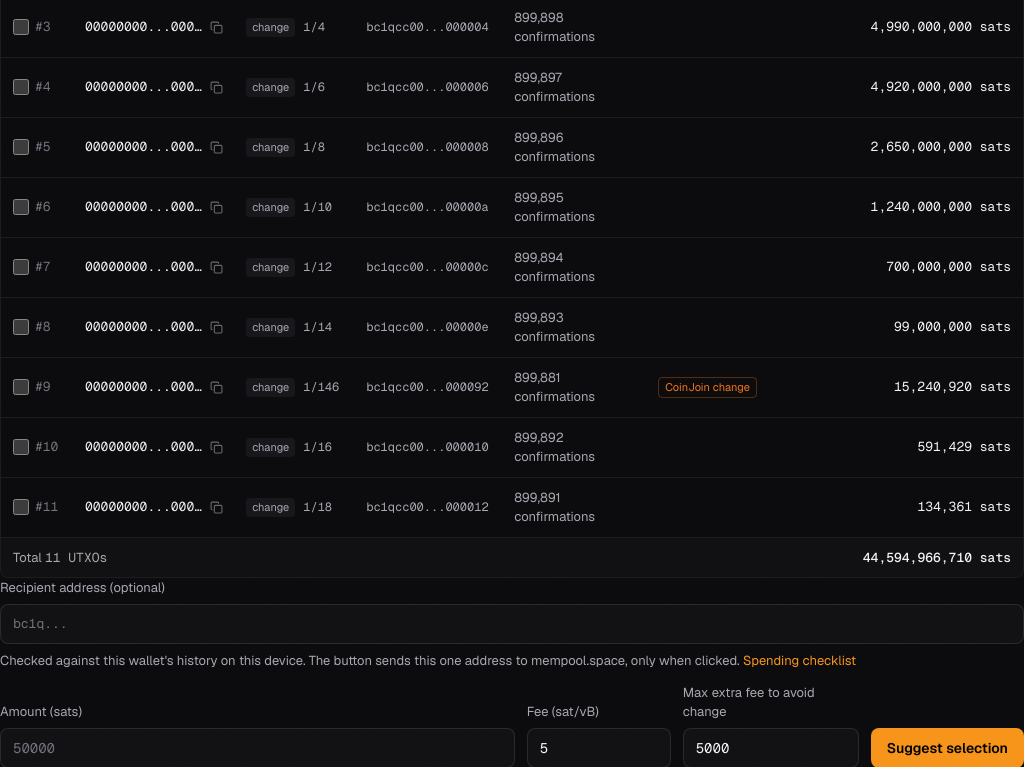
it: manual coin control › marks a suggestion as the user's own when it holds the same coins
This screenshot has width=1024, height=767.
(page scrolled)
Click the checkbox labelled "#10" at (21, 447), box x1=13 y1=439 x2=29 y2=455
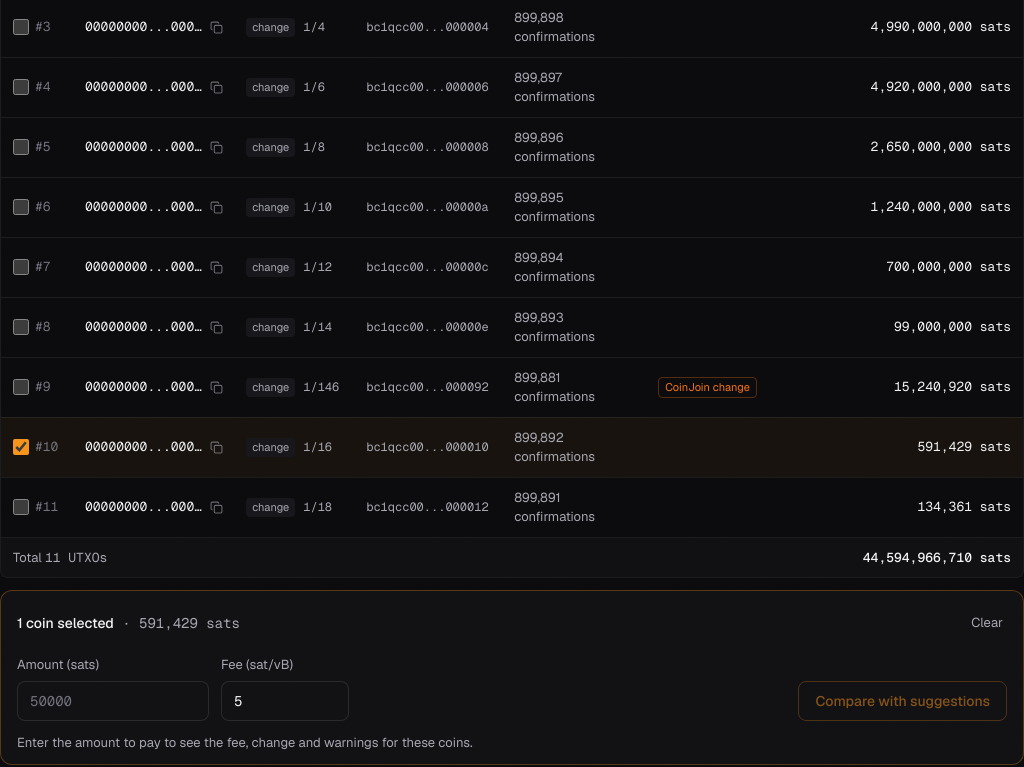
Click the checkbox labelled "#11" at (21, 507), box x1=13 y1=499 x2=29 y2=515
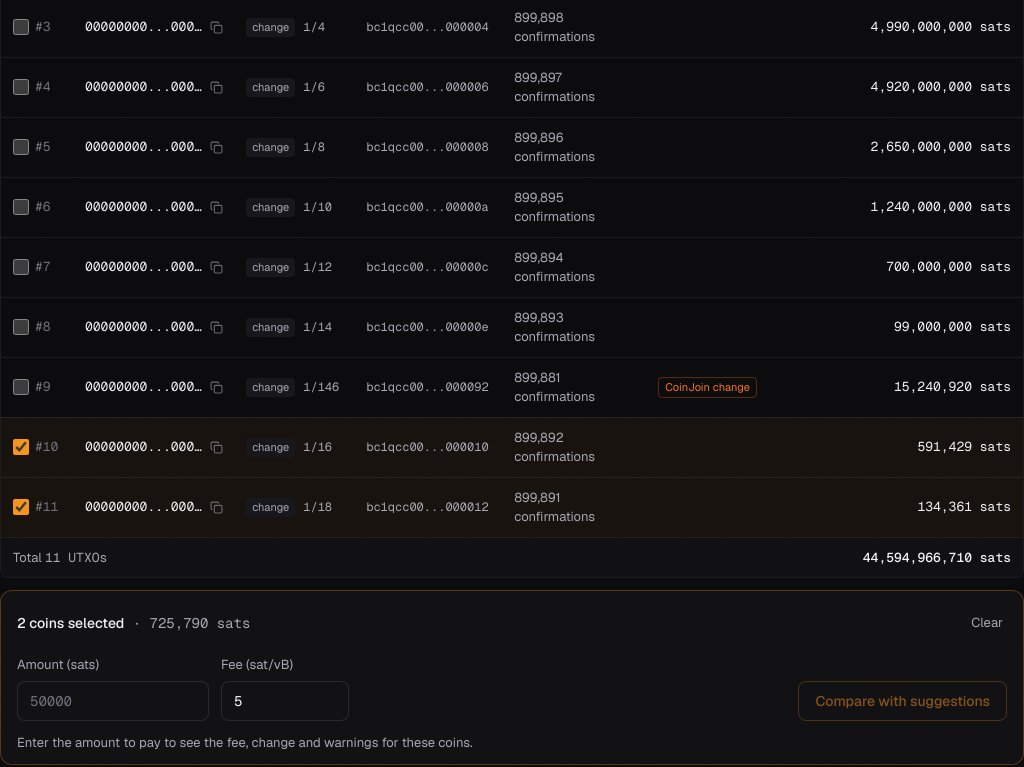
Type "600000" into the number field labelled "Amount (sats)" at (113, 700), box x1=17 y1=680 x2=209 y2=720
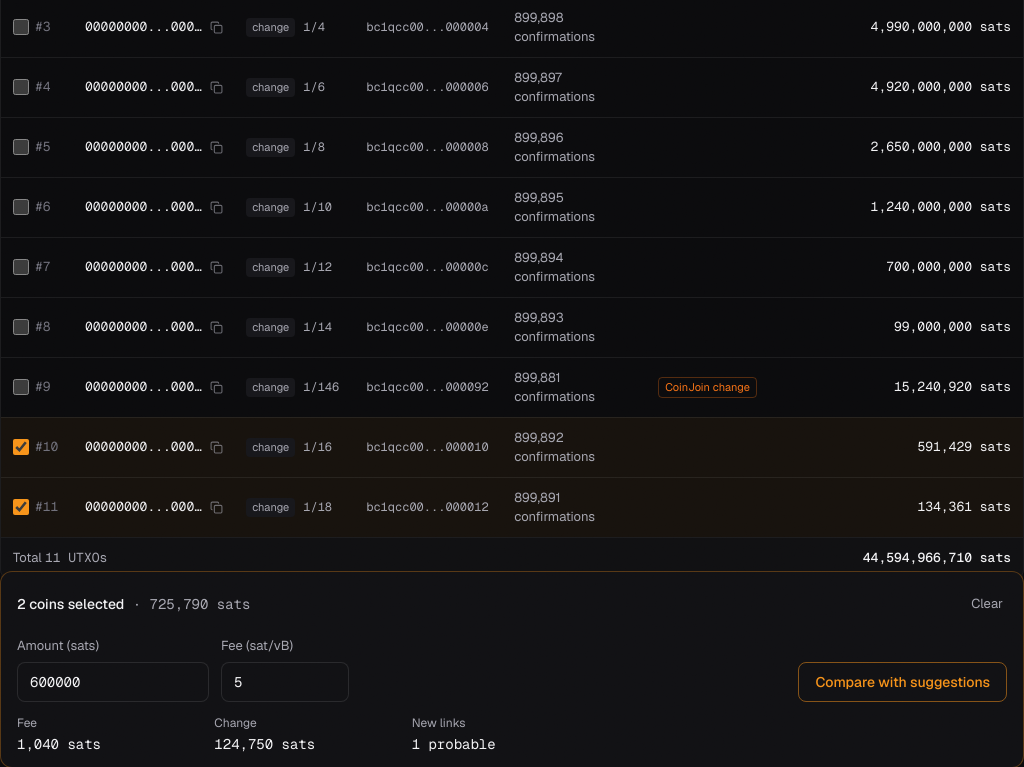
Click the button "Compare with suggestions" at (903, 682), box x1=798 y1=662 x2=1007 y2=702
(page scrolled)
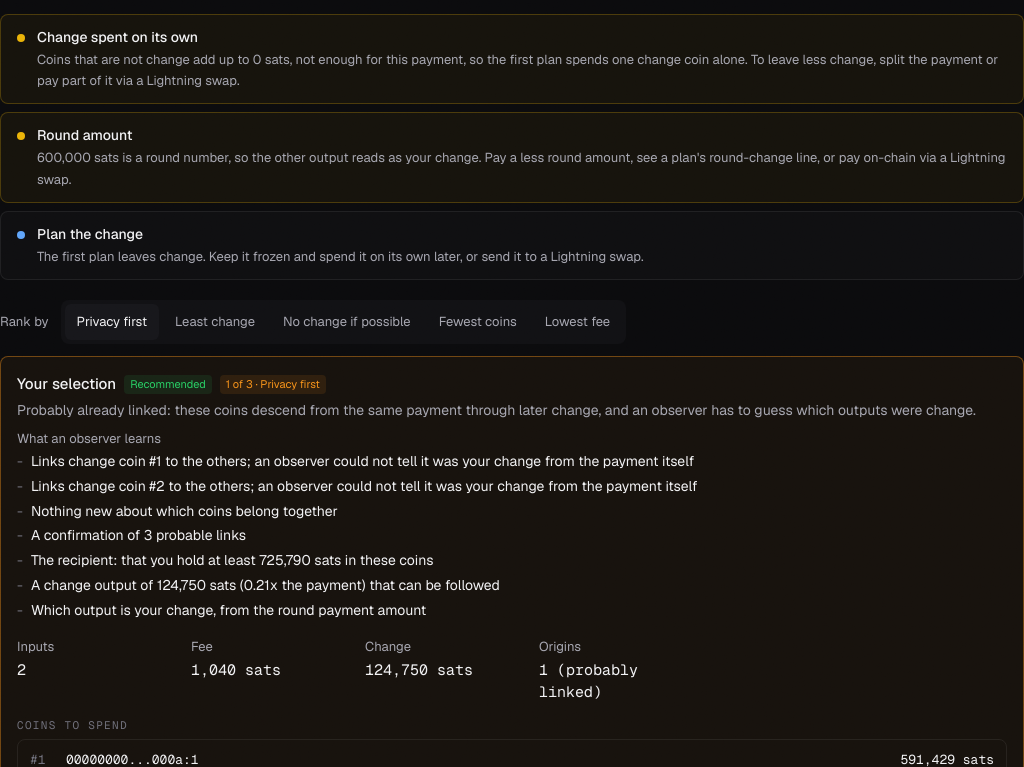
Expected: the text with test id "manual-rank" reads "1 of 3 · Privacy first", x1=226 y1=376 x2=320 y2=390
Expected: the text "Recommended" is shown, x1=124 y1=374 x2=212 y2=394
